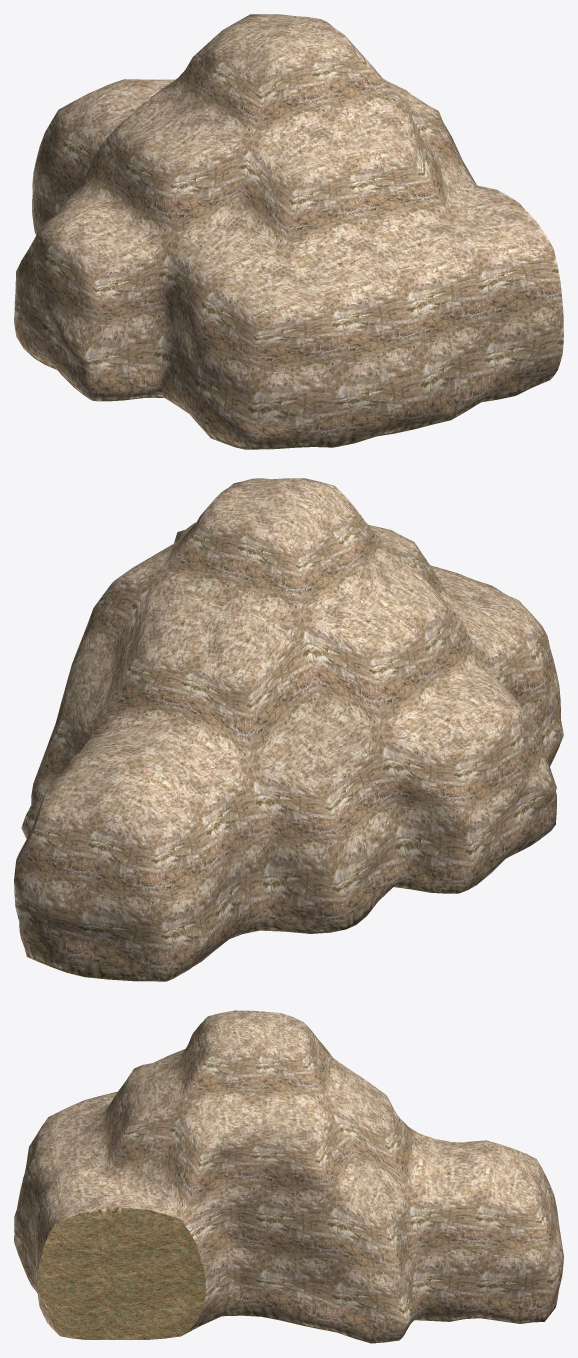
File: thm_all_cave_s03_mirror_r27_mesh_r27.fbx
3 views of the same model, one above another, from view 1: azimuth 30°, elevation 25°; view 2: azimuth 150°, elevation 25°; view 3: azimuth 270°, elevation 25° (orthographic). The views are drawn at different scales.
Parts seen in each view (by area): view 1: mesh_node; view 2: mesh_node; view 3: mesh_node.
Boxes of the visible parts, <box> form: mesh_node: <box>14,14,563,449</box>; mesh_node: <box>14,478,563,981</box>; mesh_node: <box>14,1010,563,1343</box>.
Size of the model in its own units: 40.47 by 33.41 by 59.
